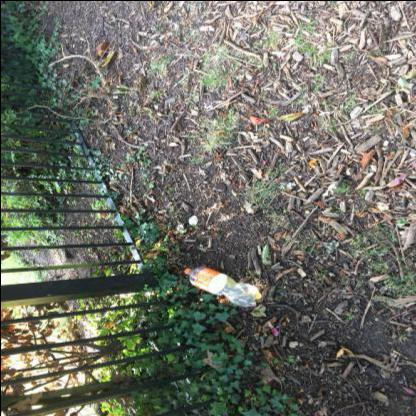Bottle: (183, 267, 188, 273)
Bottle cap: (183, 266, 260, 306)
Plastic bag - wrapper: (271, 325, 277, 335)
